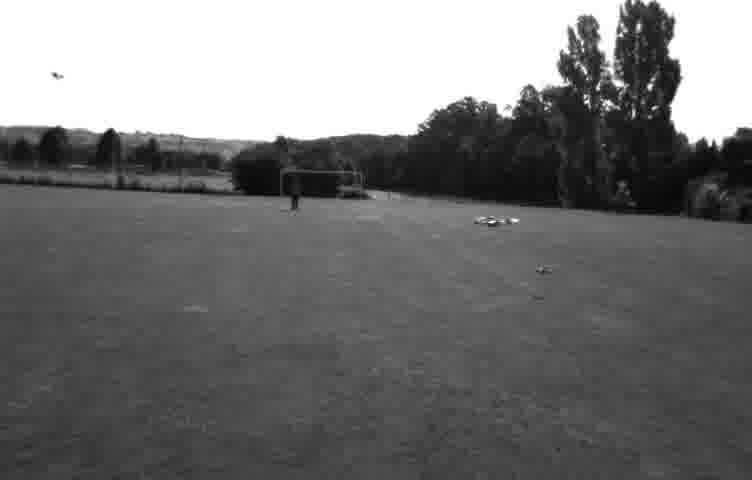drone: (469, 206, 532, 238)
